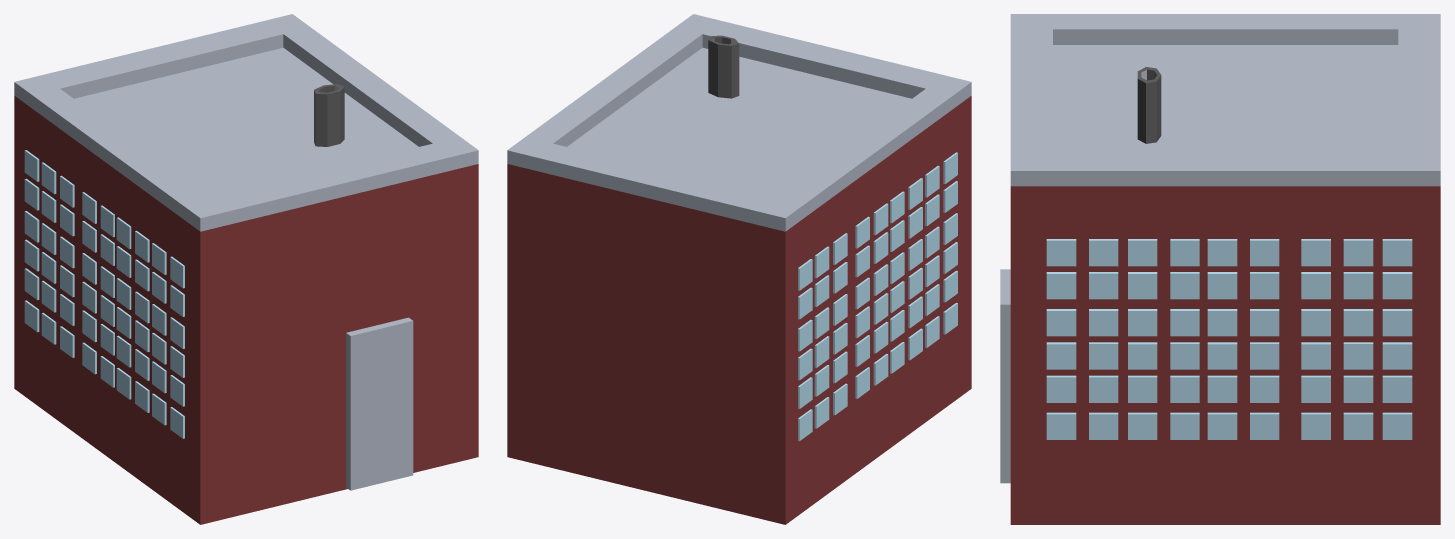
Rendered from fabrikas2.fbx.
3 renders of one model, left to right at view 1: azimuth 30°, elevation 25°; view 2: azimuth 150°, elevation 25°; view 3: azimuth 270°, elevation 25°, orthographic. The views are drawn at different scales.
Visible parts, largest first — view 1: fabrikas2; view 2: fabrikas2; view 3: fabrikas2.
Boxes of the visible parts, x1=… form: fabrikas2: x1=14, y1=14, x2=478, y2=524; fabrikas2: x1=507, y1=14, x2=971, y2=524; fabrikas2: x1=1000, y1=14, x2=1440, y2=524.
Size of the model in its own units: 600 by 700 by 700.
